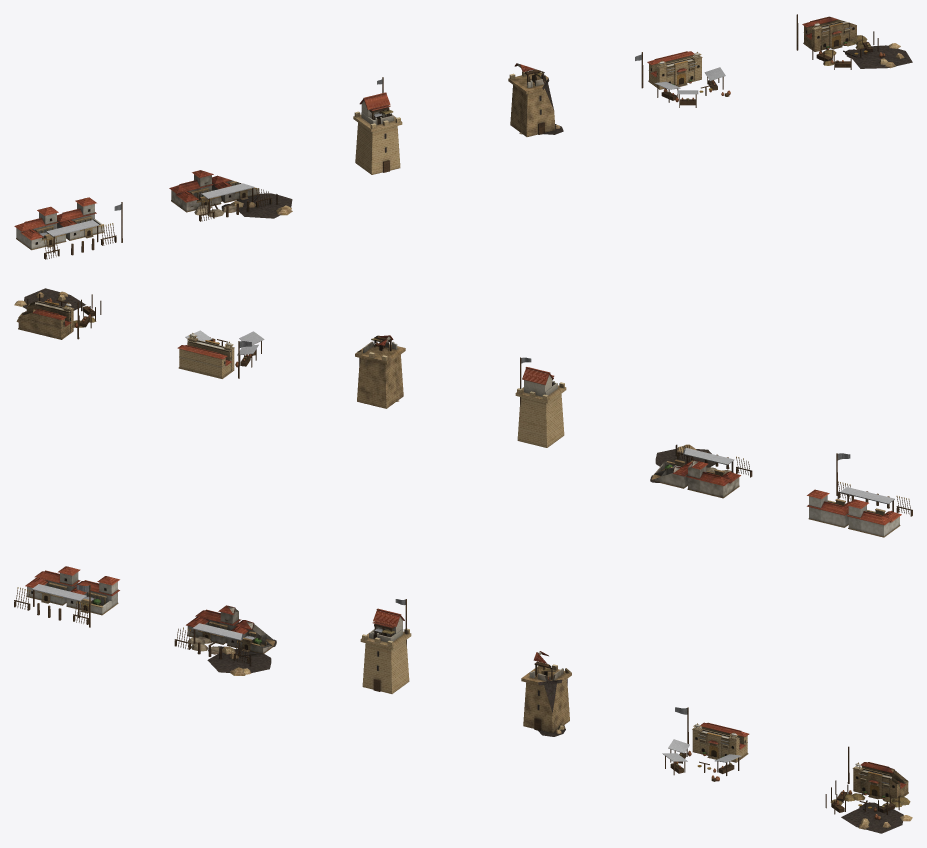
The model's file is rts-kingdoms-indic.glb.
3 views of the same model, one above another, from view 1: azimuth 30°, elevation 25°; view 2: azimuth 150°, elevation 25°; view 3: azimuth 330°, elevation 25° (orthographic). The views are drawn at different scales.
Parts seen in each view (by area): view 1: LOD0.001, LOD0.005, LOD0, LOD0.002, LOD0.003, LOD0.004; view 2: LOD0, LOD0.001, LOD0.002, LOD0.003, LOD0.005, LOD0.004; view 3: LOD0.001, LOD0.005, LOD0, LOD0.002, LOD0.003, LOD0.004.
Part boxes in pixels (bbox=[...]): LOD0.001: bbox=[169, 170, 292, 221]; LOD0.005: bbox=[796, 14, 912, 69]; LOD0: bbox=[14, 197, 122, 259]; LOD0.002: bbox=[353, 77, 402, 174]; LOD0.003: bbox=[508, 63, 563, 136]; LOD0.004: bbox=[635, 51, 730, 107]; LOD0: bbox=[807, 453, 912, 537]; LOD0.001: bbox=[650, 444, 752, 498]; LOD0.002: bbox=[515, 357, 566, 447]; LOD0.003: bbox=[355, 335, 405, 408]; LOD0.005: bbox=[14, 288, 101, 339]; LOD0.004: bbox=[177, 330, 264, 378]; LOD0.001: bbox=[174, 605, 276, 675]; LOD0.005: bbox=[825, 746, 912, 833]; LOD0: bbox=[14, 566, 119, 627]; LOD0.002: bbox=[360, 599, 411, 693]; LOD0.003: bbox=[521, 651, 571, 736]; LOD0.004: bbox=[662, 707, 749, 781].
Size of what is drawn, in the model's own units: 16.69 by 1.48 by 1.59.
Materials: 3 (3 with a texture image).
